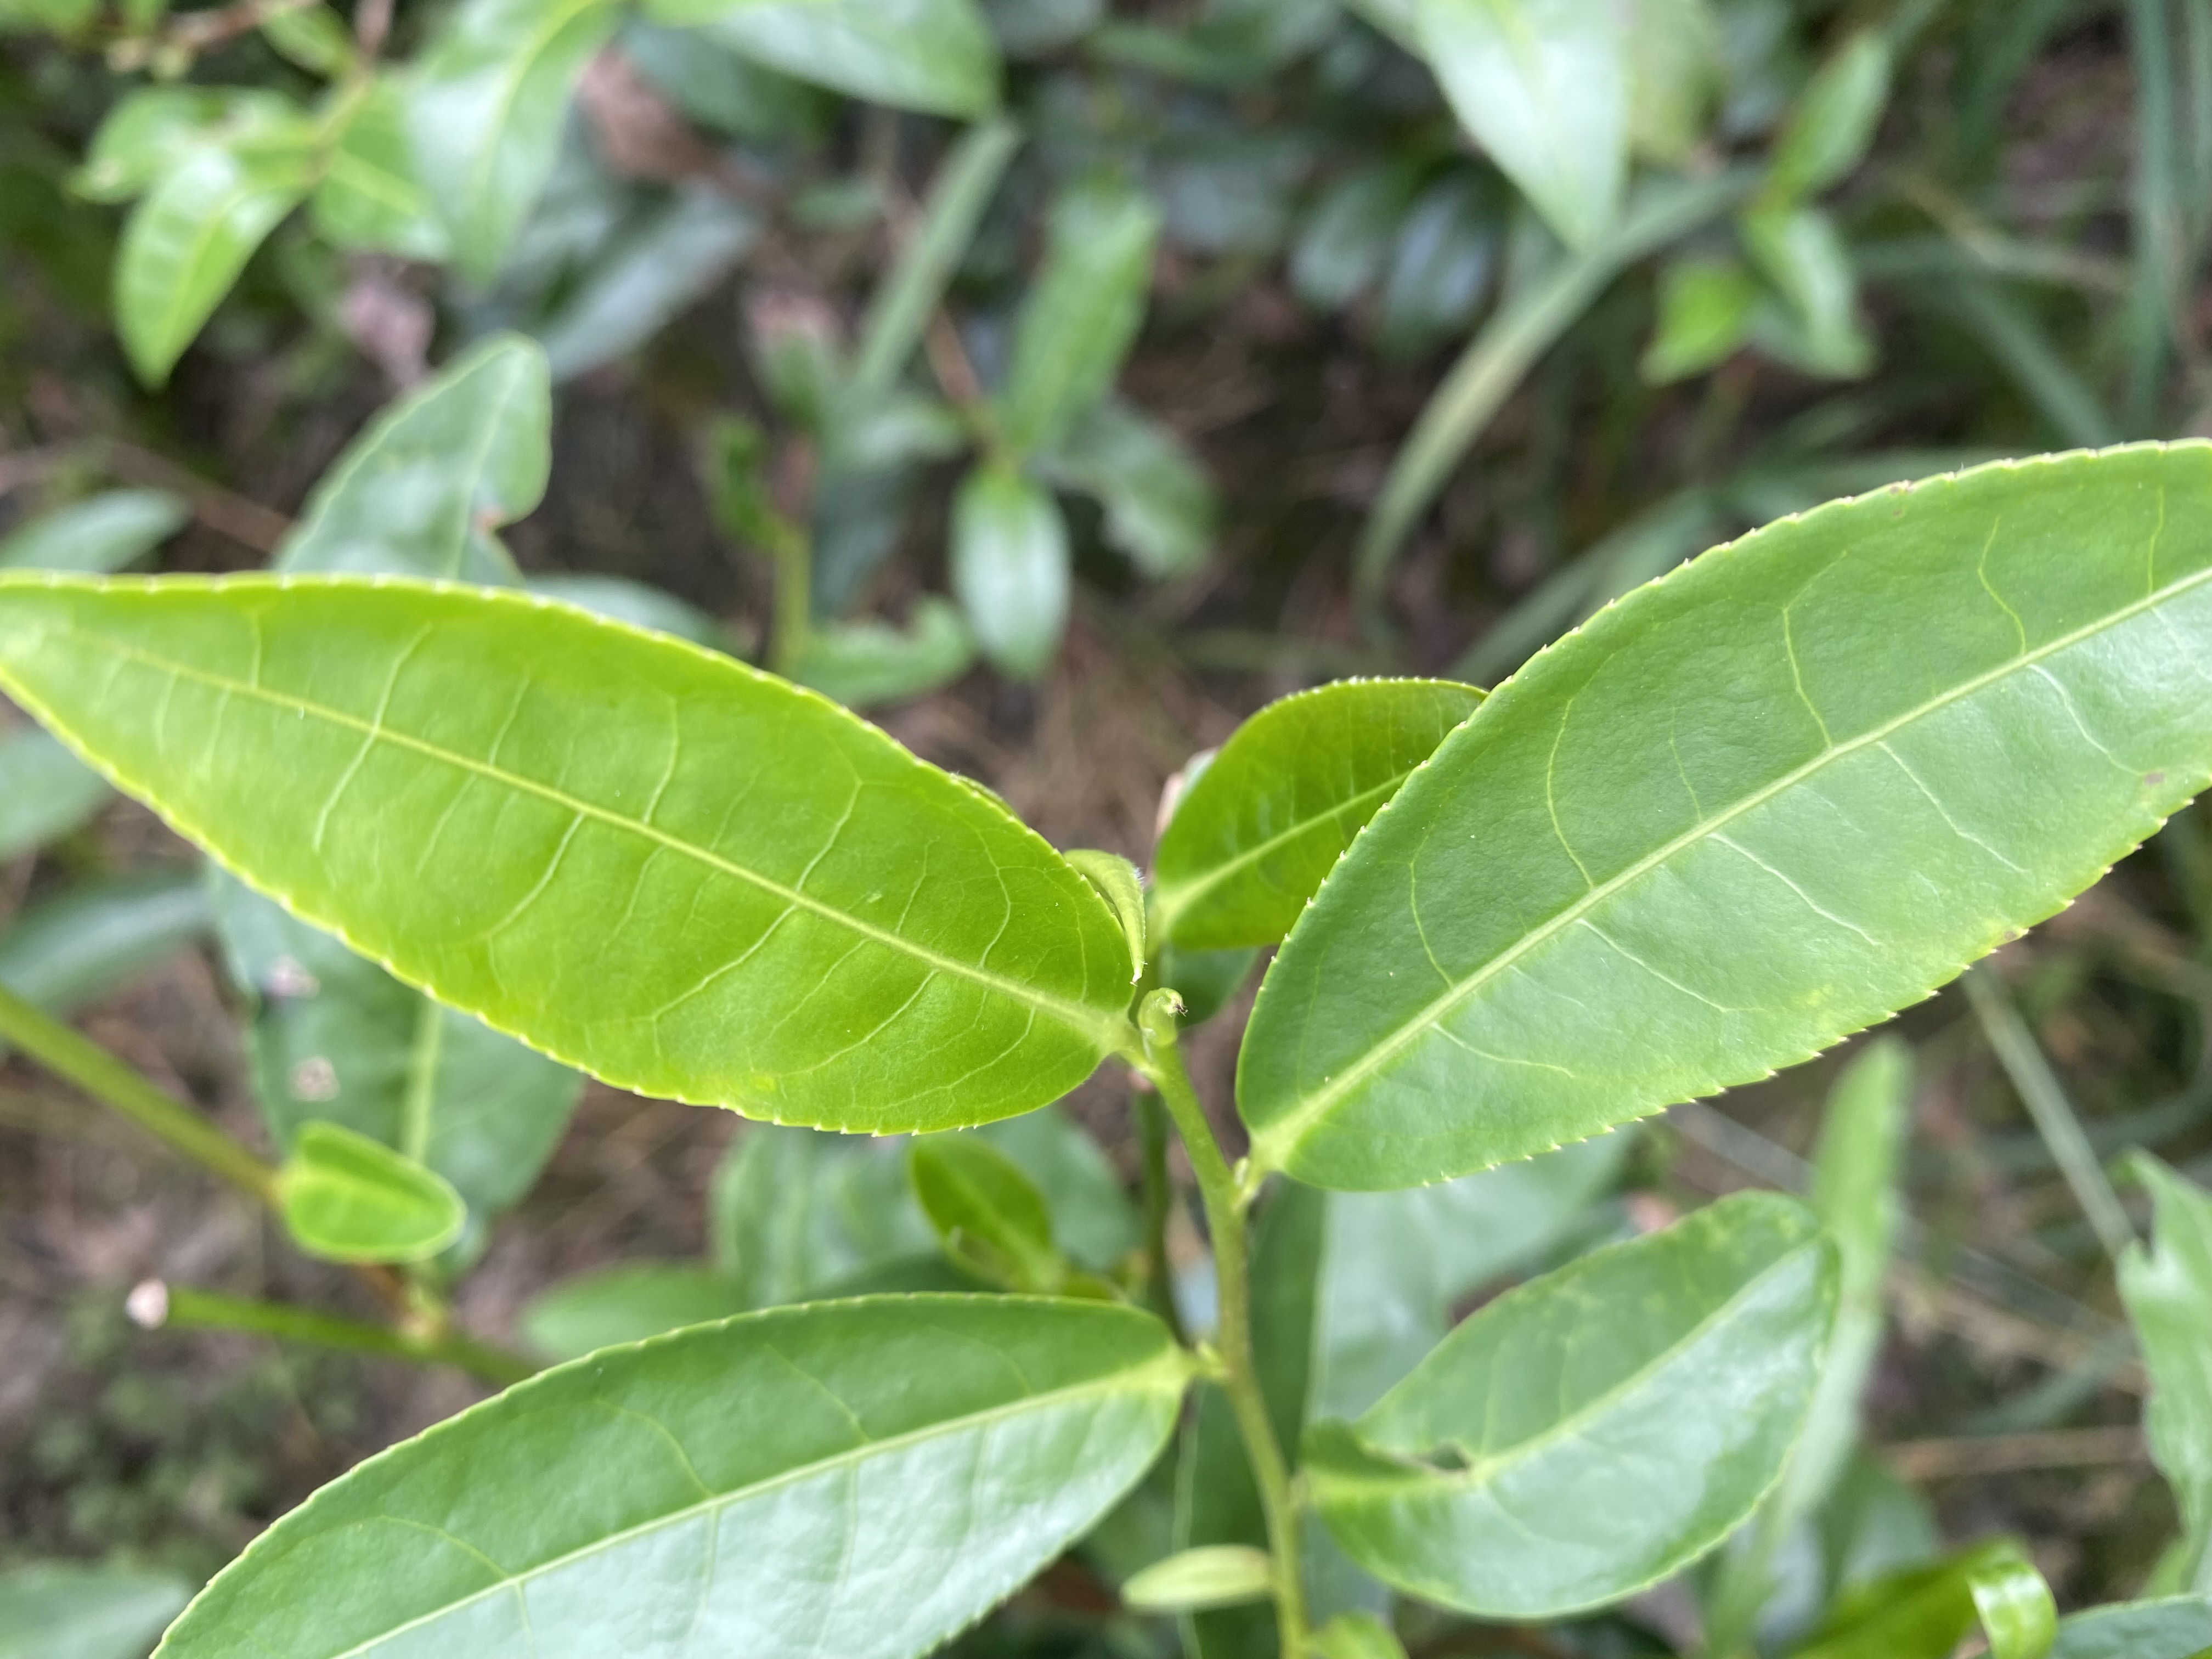healthy: (1235, 439, 2210, 1199), (3, 568, 1136, 1136), (148, 1290, 1179, 1659), (1151, 674, 1489, 953)
